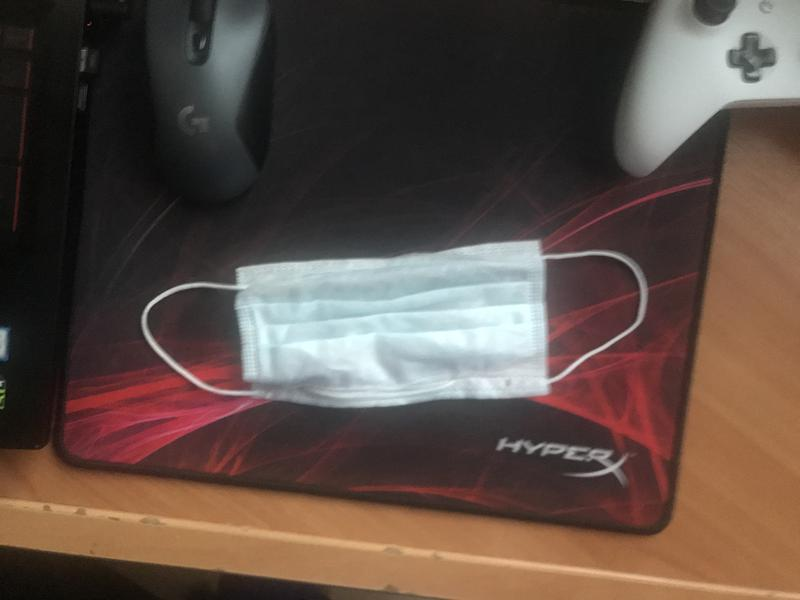medical_mask: (141, 243, 646, 411)
